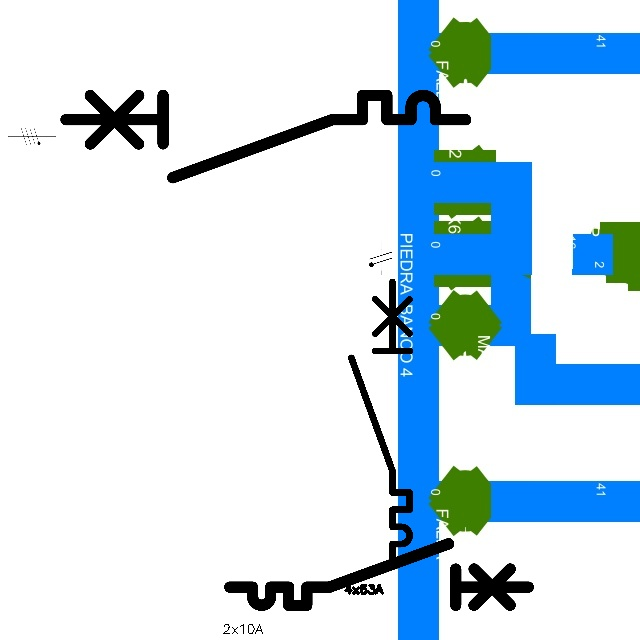interruptor_termomagnetico: (55, 85, 476, 188), (222, 536, 536, 613), (344, 274, 417, 572)
